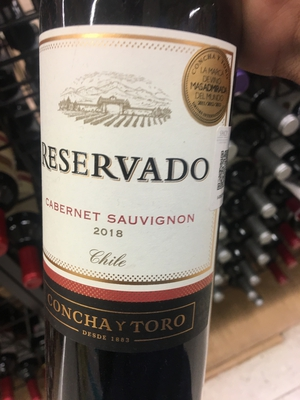reservado cabernet sauvignon: (34, 2, 237, 400)
